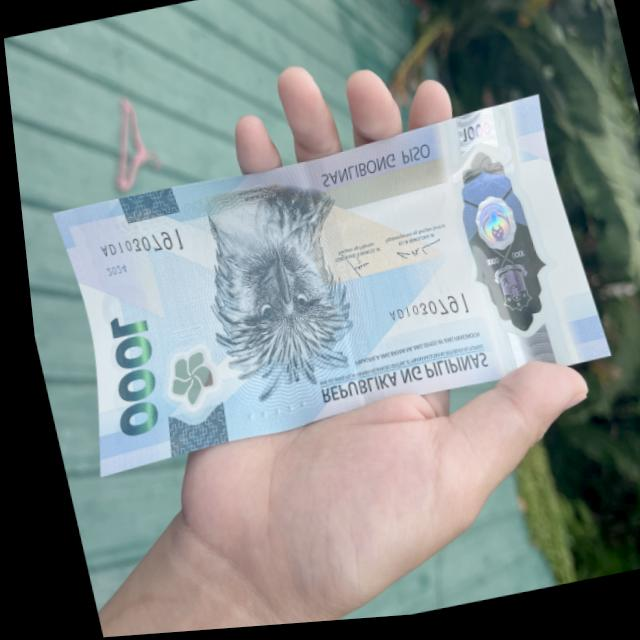clear_window: (429, 150, 553, 341)
eagle: (196, 218, 375, 399)
sampaguita: (142, 317, 219, 422)
serial_number: (85, 218, 188, 279), (373, 288, 467, 332)
value_watermark: (445, 120, 495, 156)
